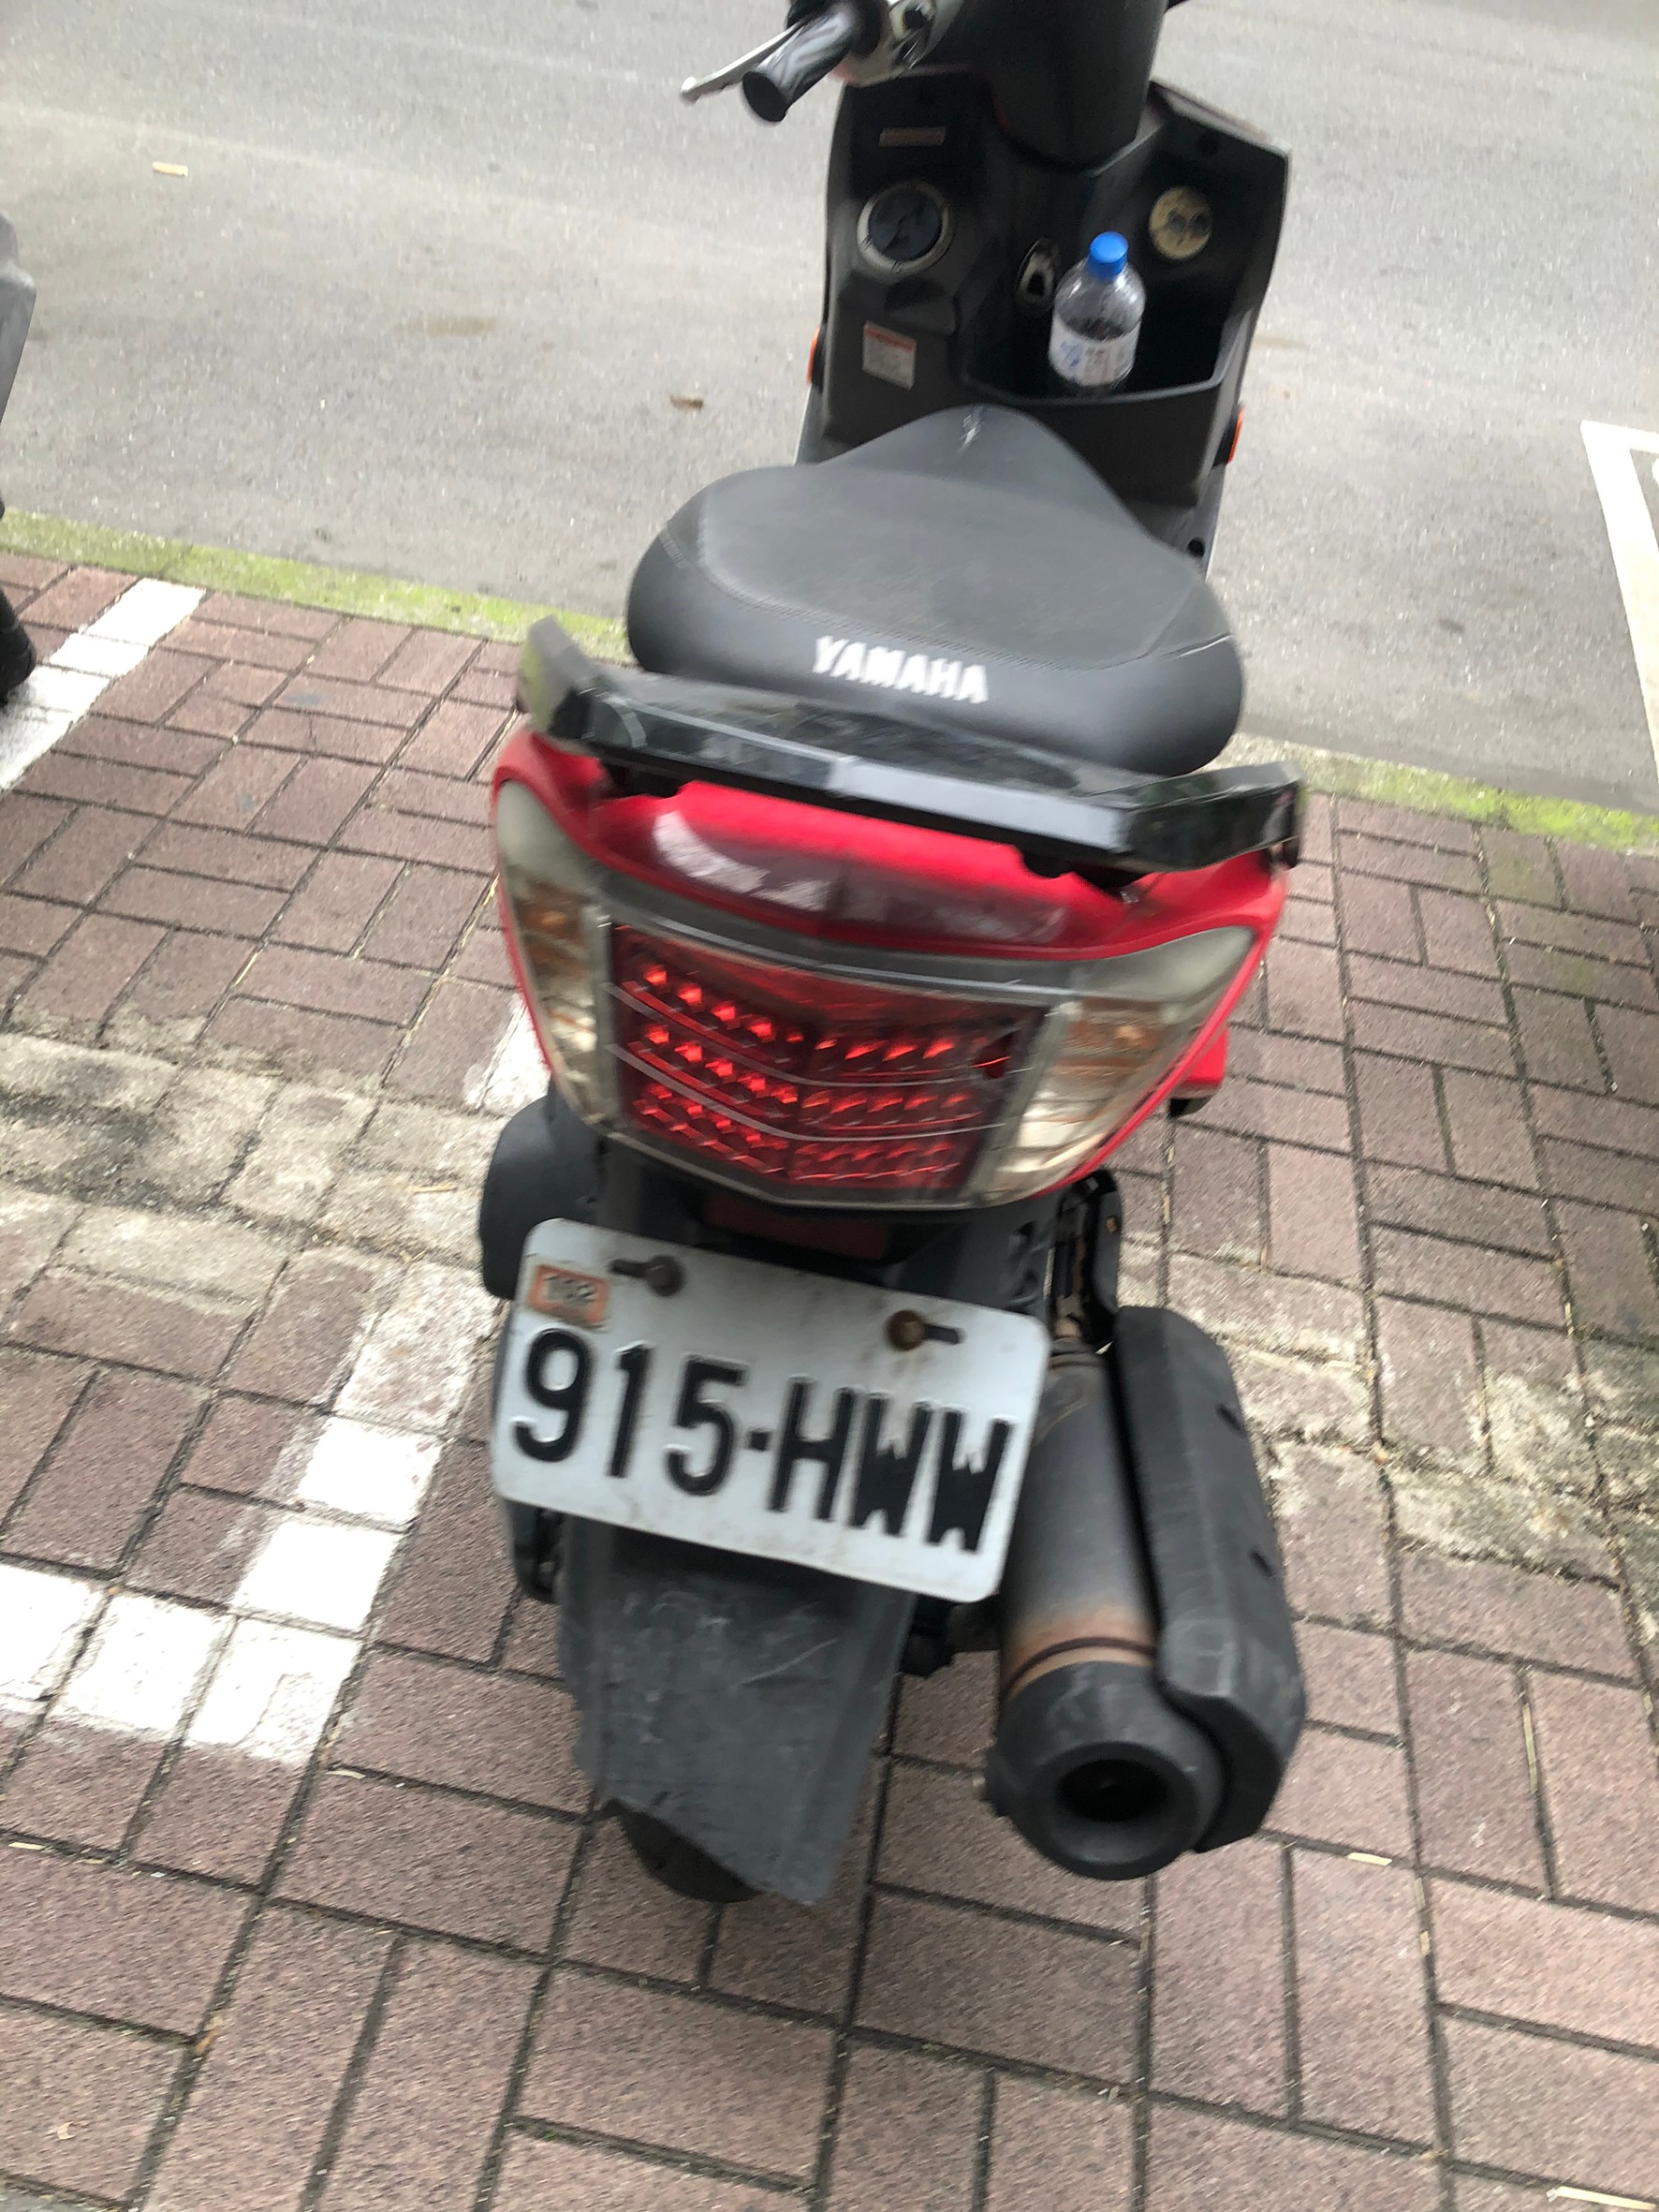LP: (498, 1241, 1016, 1576)
